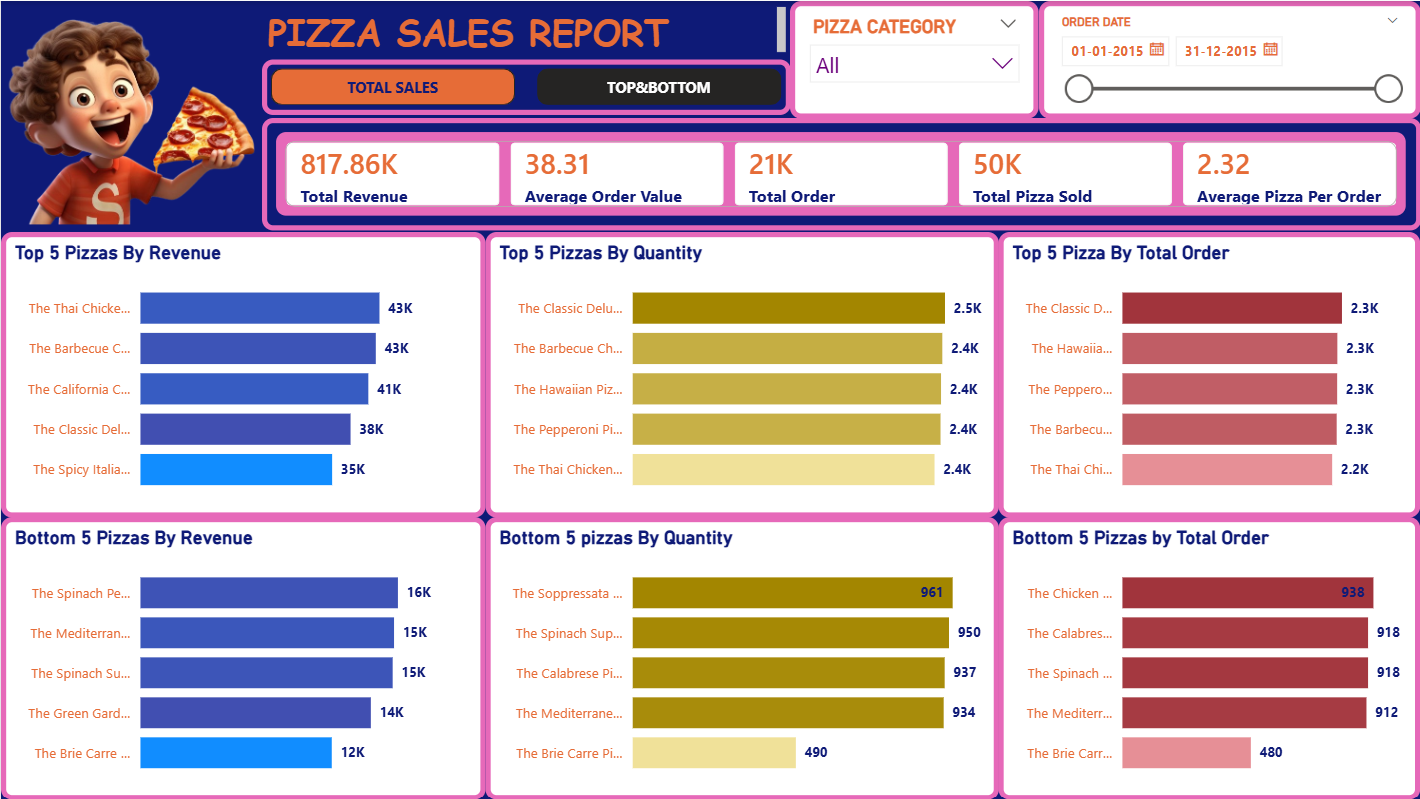

What the dashboard file says about the page in this screenshot:
{"tool":"powerbi","page":{"name":"TOP&BOTTOM","canvas":[1280,720],"ordinal":1},"visuals":[{"type":"cardVisual","fields":{"Data":["ALL.Total Revenue","ALL.Average Order Value","ALL.Total Order","ALL.Total Pizza Sold","ALL.Average Pizza Per Order"]},"box":[234.7,106,1044.8,101.5],"z":0},{"type":"clusteredBarChart","title":"Top 5 Pizzas By Quantity","fields":{"Category":["pizza_sales.pizza_name"],"Y":["Sum(pizza_sales.quantity)"]},"box":[436.5,207.9,463,257],"z":1000},{"type":"slicer","fields":{"Values":["pizza_sales.pizza_category"]},"box":[711.7,0,224.1,106],"z":2000},{"type":"slicer","fields":{"Values":["pizza_sales.order_date"]},"box":[935.8,0,343.7,106],"z":3000},{"type":"textbox","box":[234.7,0,477,53],"z":4000},{"type":"image","box":[0,0,234.7,207.4],"z":5000},{"type":"clusteredBarChart","title":"Top 5 Pizzas By Revenue","fields":{"Y":["ALL.Total Revenue"],"Category":["pizza_sales.pizza_name"]},"box":[0,207.9,436.5,257],"z":6000},{"type":"clusteredBarChart","title":"Bottom 5 Pizzas By Revenue","fields":{"Y":["ALL.Total Revenue"],"Category":["pizza_sales.pizza_name"]},"box":[0,464.9,436.5,255.1],"z":7000},{"type":"clusteredBarChart","title":"Bottom 5 pizzas By Quantity","fields":{"Category":["pizza_sales.pizza_name"],"Y":["Sum(pizza_sales.quantity)"]},"box":[436.5,464.9,463,255.1],"z":8000},{"type":"clusteredBarChart","title":"Top 5 Pizza By Total Order","fields":{"Category":["pizza_sales.pizza_name"],"Y":["ALL.Total Order"]},"box":[899.5,207.9,379.8,257],"z":9000},{"type":"clusteredBarChart","title":"Bottom 5 Pizzas by Total Order","fields":{"Category":["pizza_sales.pizza_name"],"Y":["ALL.Total Order"]},"box":[899.5,464.9,379.8,255.1],"z":10000},{"type":"pageNavigator","box":[234.7,53,477,50],"z":10001}]}

Visuals, with their boxes in screenshot pixels (x1, y1, x2, y2), scaled from the page's 1280x720 canvas onto the 1420x799 screenshot:
cardVisual - ALL.Total Revenue x ALL.Average Order Value: box(260, 118, 1419, 230)
"Top 5 Pizzas By Quantity" clusteredBarChart: box(484, 231, 998, 516)
slicer - pizza_sales.pizza_category: box(790, 0, 1038, 118)
slicer - pizza_sales.order_date: box(1038, 0, 1419, 118)
textbox: box(260, 0, 790, 59)
image: box(0, 0, 260, 230)
"Top 5 Pizzas By Revenue" clusteredBarChart: box(0, 231, 484, 516)
"Bottom 5 Pizzas By Revenue" clusteredBarChart: box(0, 516, 484, 798)
"Bottom 5 pizzas By Quantity" clusteredBarChart: box(484, 516, 998, 798)
"Top 5 Pizza By Total Order" clusteredBarChart: box(998, 231, 1419, 516)
"Bottom 5 Pizzas by Total Order" clusteredBarChart: box(998, 516, 1419, 798)
pageNavigator: box(260, 59, 790, 114)
